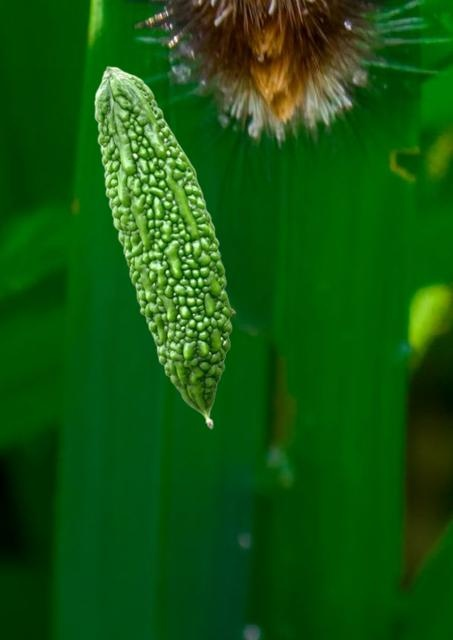ampalaya: (92, 63, 237, 429)
